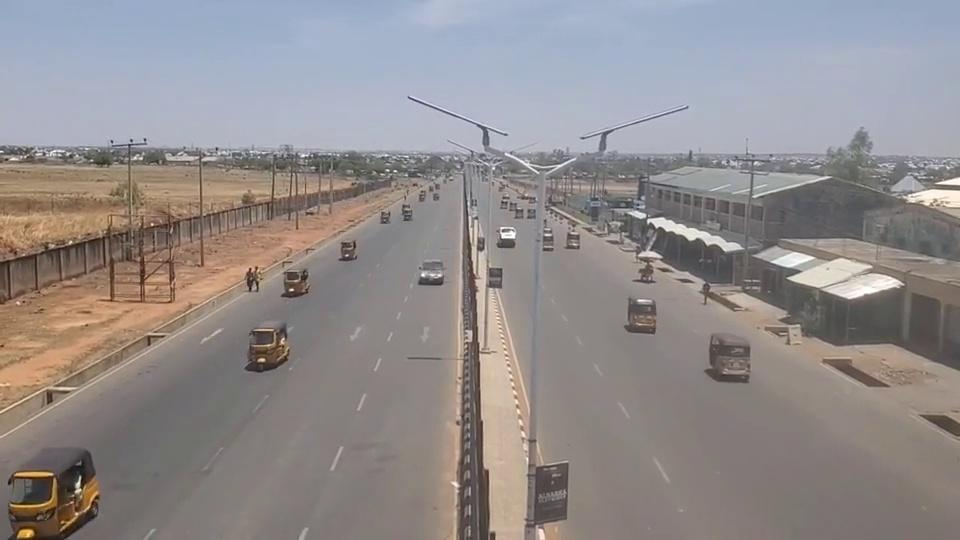keke: (6, 445, 100, 539), (708, 332, 751, 381), (247, 322, 290, 370), (626, 296, 656, 333), (282, 268, 309, 296)
